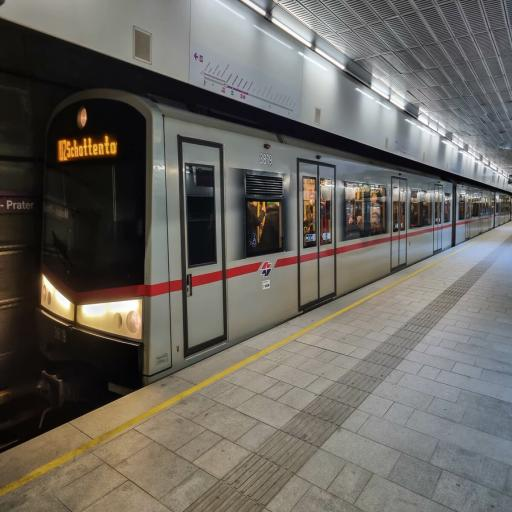V-Wagen: (37, 86, 512, 387)
